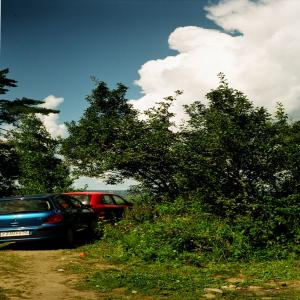Vehicle-registration-plate: (1, 233, 29, 237)
